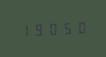five: (60, 19, 73, 35)
nine: (32, 21, 45, 37)
one: (18, 21, 31, 38)
zero: (74, 18, 87, 35), (46, 20, 59, 36)
